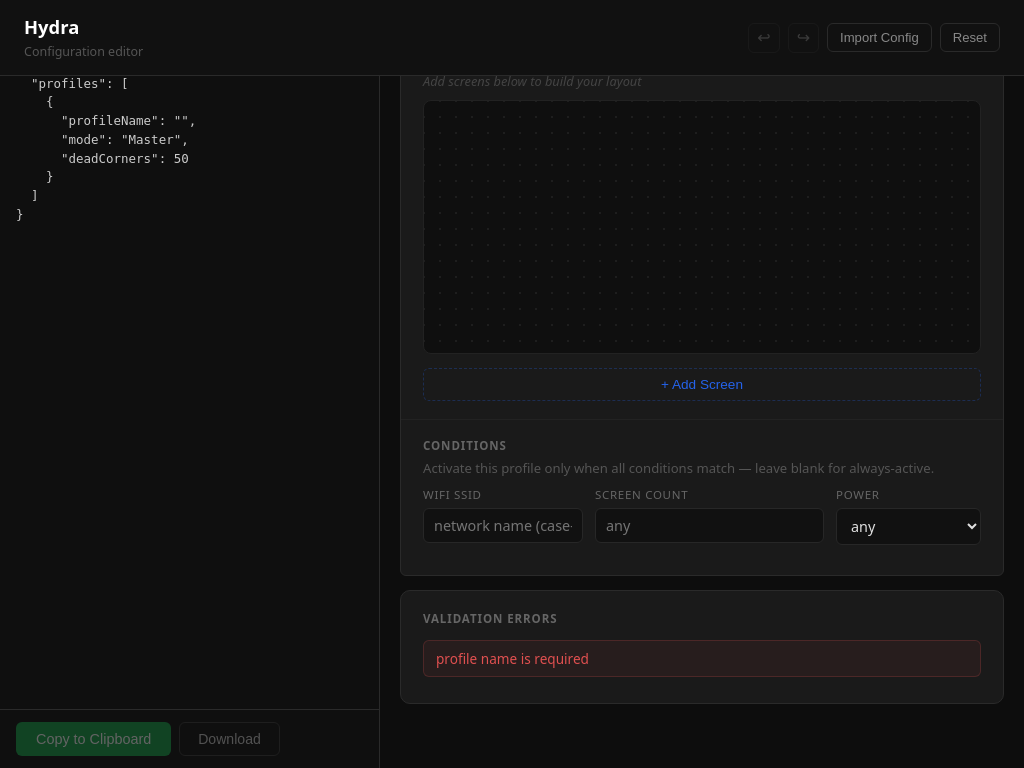
Test: App › can add a screen block in visual mode
(page scrolled)
Click the button "+ Add Screen" at (702, 384), box 423,368 -> 981,401
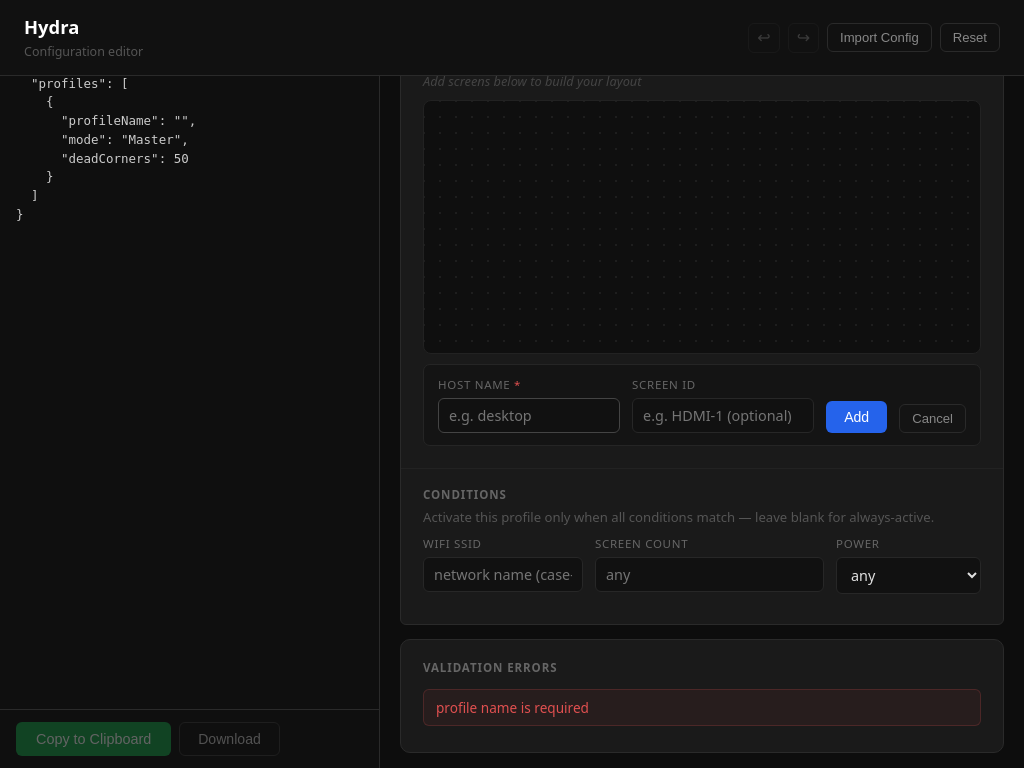
Result: the field with placeholder "e.g. desktop" is shown at 438,398 -> 620,433
